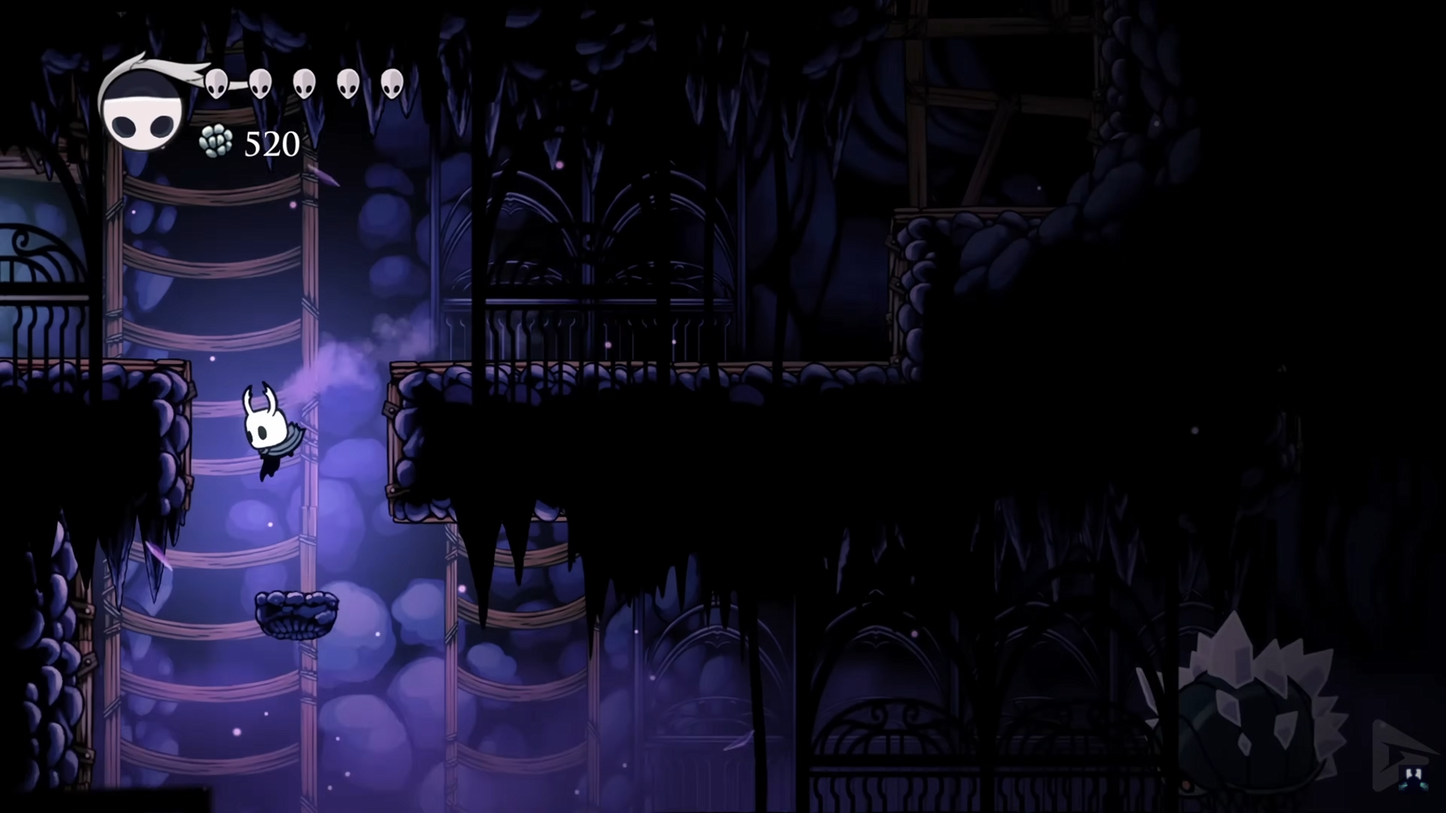HK: (240, 382, 310, 481)
